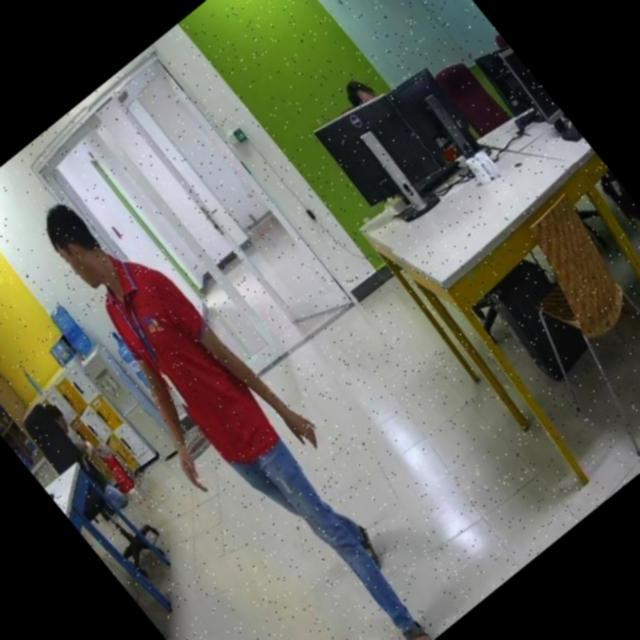person: (11, 173, 458, 640)
